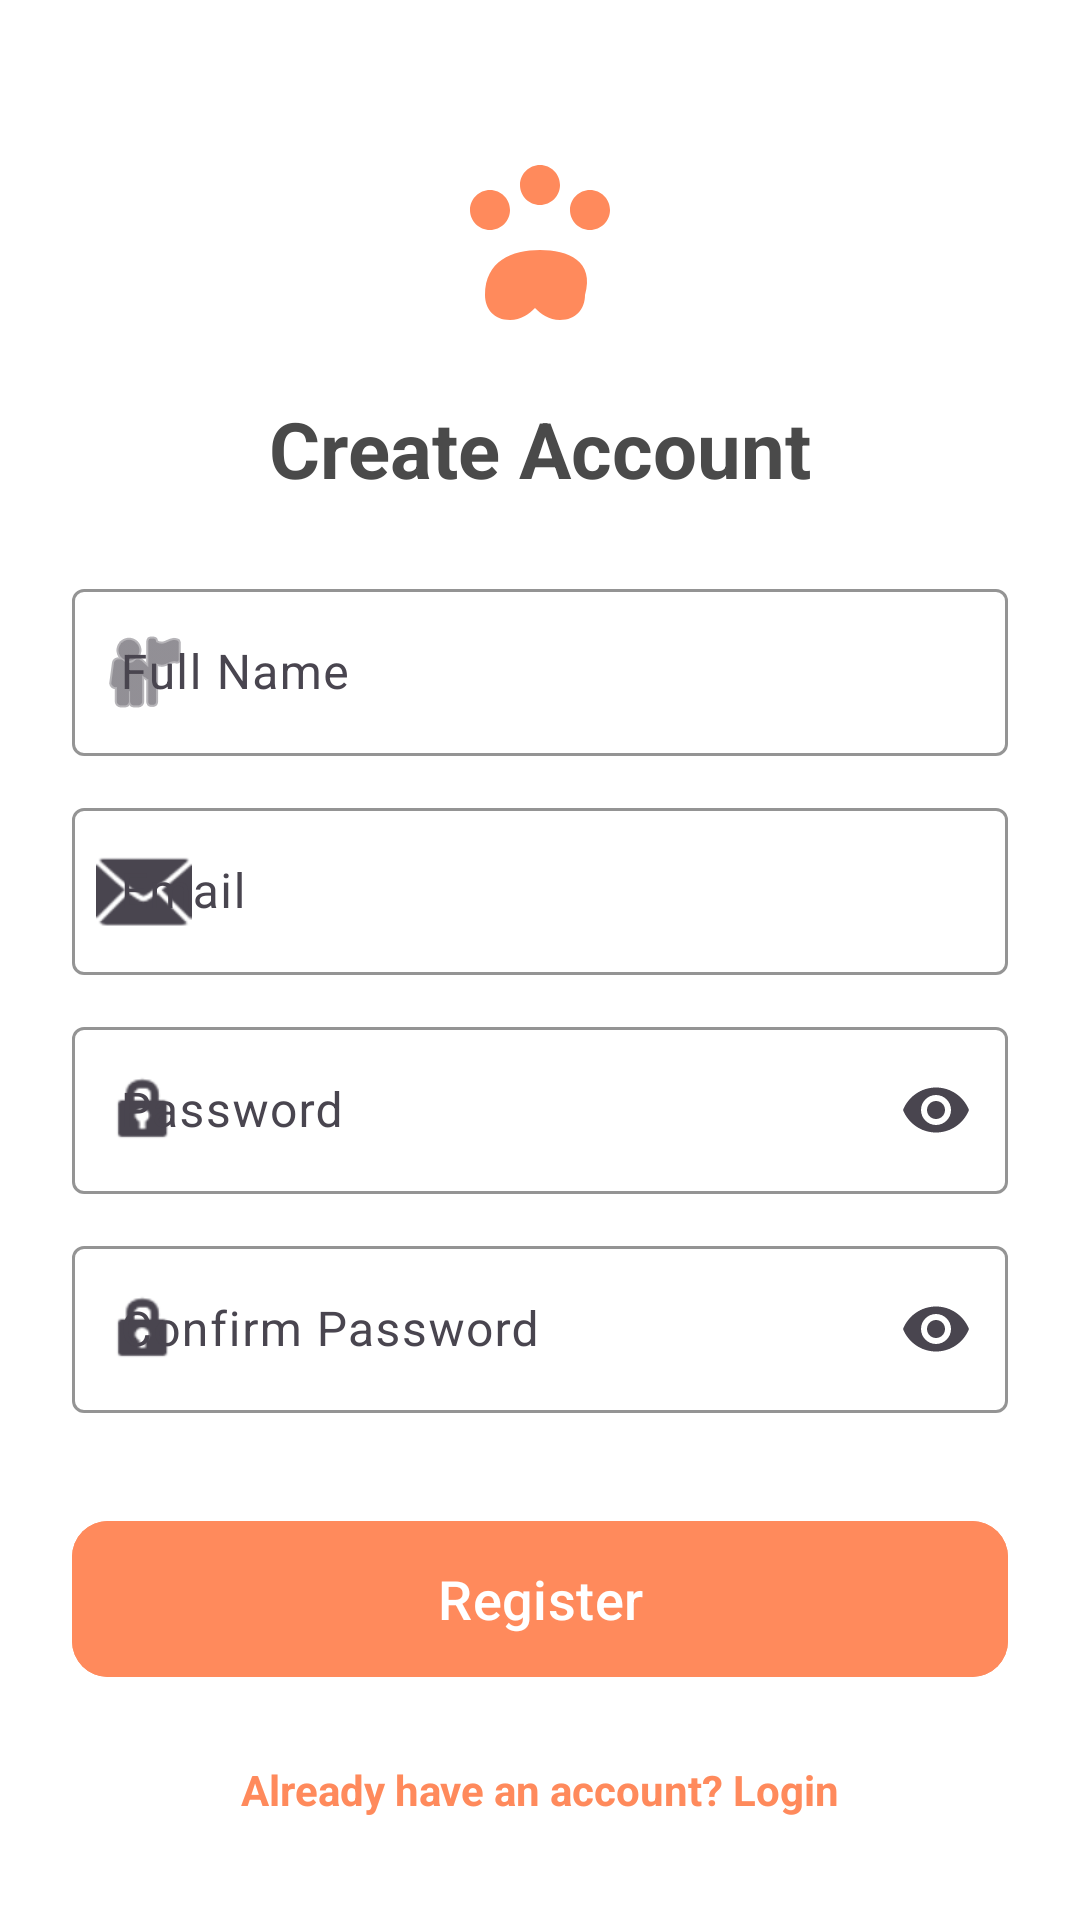

Where icons sit on this 1080×1920 app screen, as BBox(x1, y1, x2, y2):
paw: BBox(470, 165, 610, 320)
